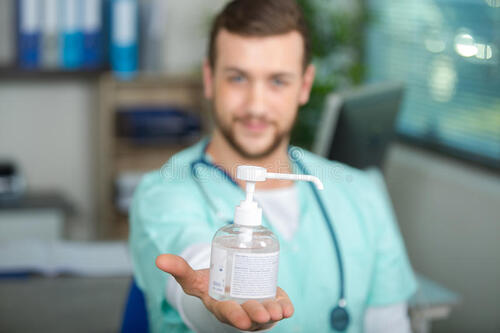sanitizer: (203, 163, 319, 304)
